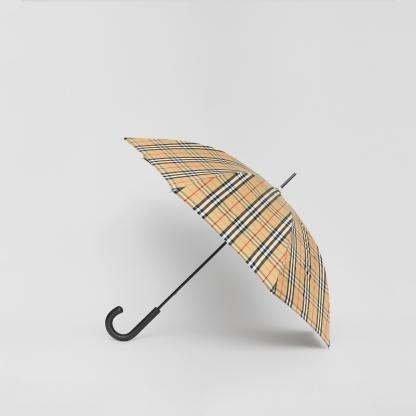Umbrella: (85, 108, 385, 380)
